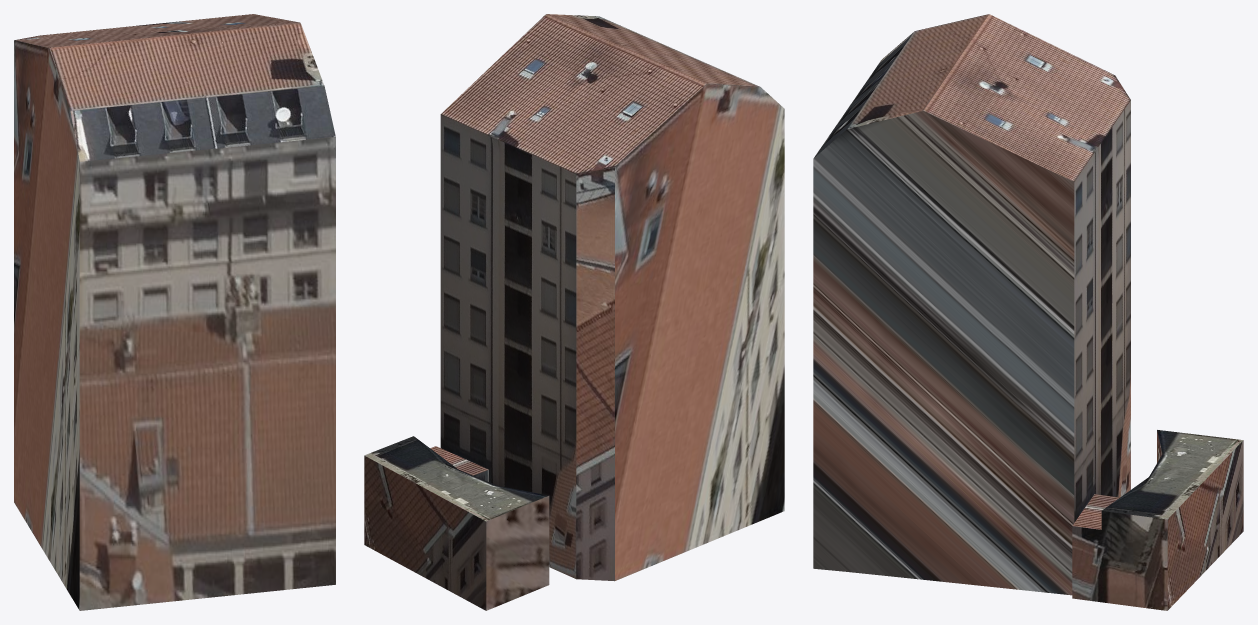
3 renders of one model, left to right at view 1: azimuth 30°, elevation 25°; view 2: azimuth 150°, elevation 25°; view 3: azimuth 270°, elevation 25°, orthographic. The views are drawn at different scales.
Parts seen in each view (by area): view 1: Z_UP; view 2: Z_UP; view 3: Z_UP.
Part boxes in pixels (bbox=[...]): Z_UP: bbox=[14, 14, 335, 610]; Z_UP: bbox=[364, 14, 784, 610]; Z_UP: bbox=[813, 14, 1243, 610].
Size of the model in its own units: 18.98 by 29.68 by 24.63.
2 materials, 1 textured.
